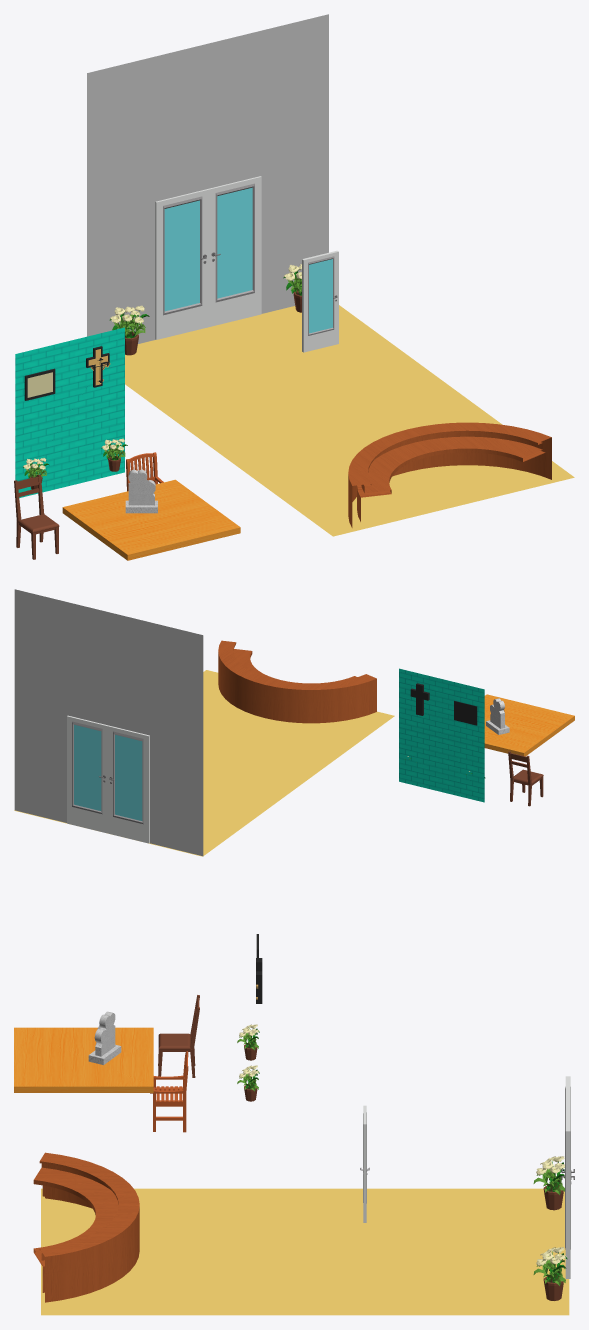
3 views of the same model, one above another, from view 1: azimuth 30°, elevation 25°; view 2: azimuth 150°, elevation 25°; view 3: azimuth 270°, elevation 25° (orthographic). The views are drawn at different scales.
Visible parts, largest first — view 1: Door Wall, Floor, Door.001, Wall, Table2, table, Door, Chair1, Flowers2.001, G1, Frame, chair; view 2: Door Wall, Floor, Door.001, Wall, Table2, table, Chair1, Frame, G1, Cross2; view 3: Floor, Table2, table, chair, Door.001, Chair1, Flowers.001, Flowers2.001, G1.
Boxes of the visible parts, x1=… form: Door Wall: x1=87, y1=14, x2=328, y2=343; Floor: x1=125, y1=305, x2=574, y2=536; Door.001: x1=155, y1=176, x2=261, y2=339; Wall: x1=15, y1=327, x2=124, y2=497; Table2: x1=348, y1=422, x2=551, y2=527; table: x1=62, y1=479, x2=240, y2=560; Door: x1=302, y1=250, x2=338, y2=352; Chair1: x1=14, y1=474, x2=59, y2=559; Flowers2.001: x1=109, y1=305, x2=149, y2=355; G1: x1=128, y1=469, x2=155, y2=505; Frame: x1=24, y1=368, x2=55, y2=400; chair: x1=126, y1=452, x2=163, y2=491; Door Wall: x1=14, y1=589, x2=203, y2=856; Floor: x1=14, y1=670, x2=394, y2=856; Door.001: x1=67, y1=715, x2=149, y2=843; Wall: x1=399, y1=668, x2=484, y2=802; Table2: x1=218, y1=640, x2=376, y2=723; table: x1=484, y1=694, x2=574, y2=756; Chair1: x1=508, y1=751, x2=543, y2=806; Frame: x1=454, y1=701, x2=477, y2=725; G1: x1=490, y1=698, x2=504, y2=728; Cross2: x1=410, y1=683, x2=429, y2=715; Floor: x1=41, y1=1188, x2=569, y2=1315; Table2: x1=33, y1=1152, x2=139, y2=1302; table: x1=14, y1=1027, x2=153, y2=1092; chair: x1=150, y1=1051, x2=188, y2=1132; Door.001: x1=561, y1=1076, x2=574, y2=1278; Chair1: x1=158, y1=995, x2=199, y2=1077; Flowers.001: x1=533, y1=1247, x2=567, y2=1300; Flowers2.001: x1=533, y1=1156, x2=564, y2=1210; G1: x1=94, y1=1011, x2=115, y2=1056.
Size of the model in its own units: 3452 by 1943 by 3212.
